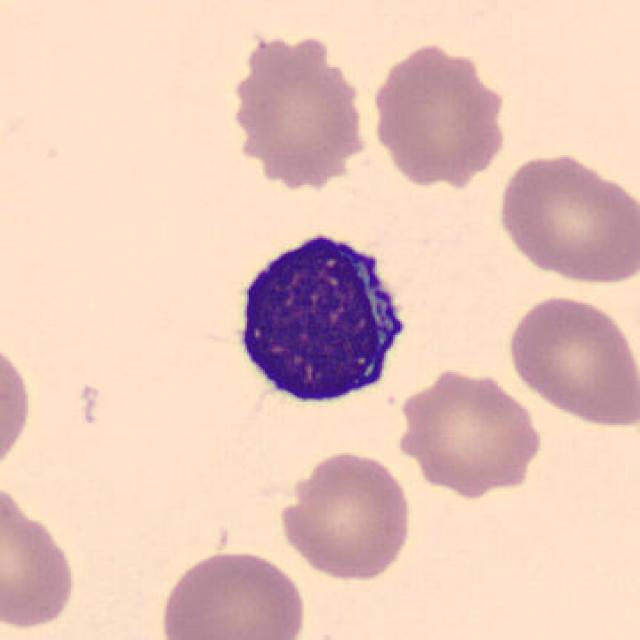Lymphocyte: (220, 220, 420, 416)
RBC: (211, 25, 377, 213), (366, 37, 512, 190), (391, 365, 546, 497), (492, 148, 636, 287), (276, 448, 416, 582), (503, 291, 637, 428), (155, 545, 311, 640), (0, 478, 80, 633), (0, 330, 36, 483)
